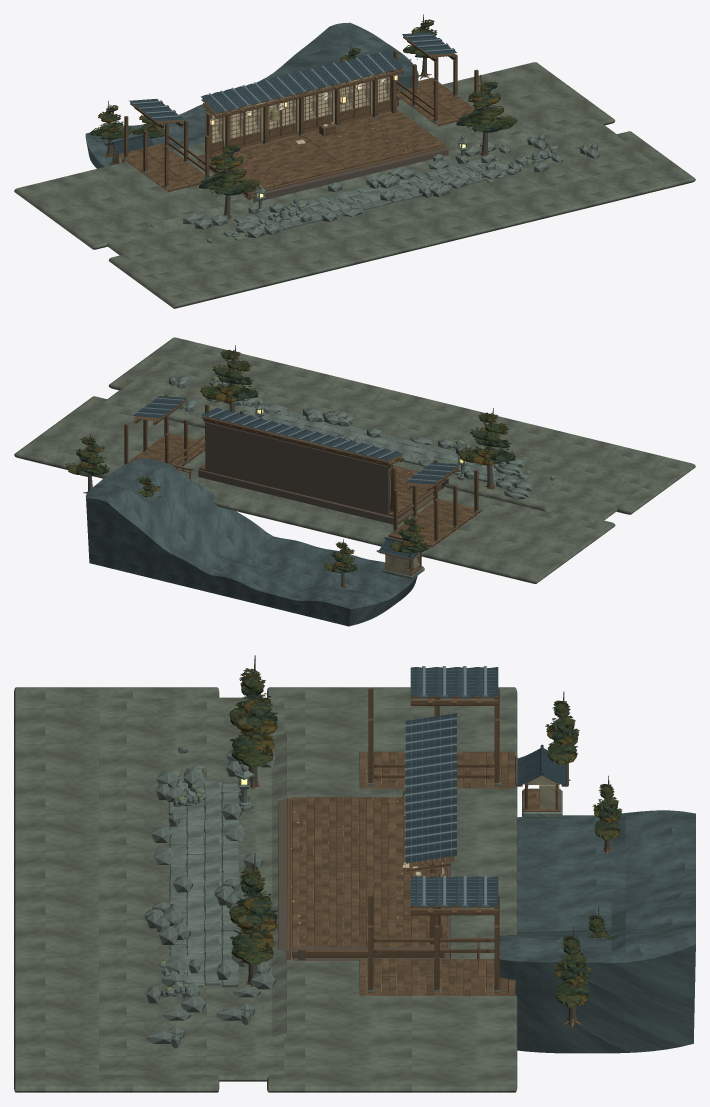
File: night02_corridor_hd2d.glb
The picture shows the model from 3 angles, top to bottom: view 1: azimuth 30°, elevation 25°; view 2: azimuth 150°, elevation 25°; view 3: azimuth 270°, elevation 25°; orthographic projection. The views are drawn at different scales.
Parts seen in each view (by area): view 1: Garden_ground_below_deck, Extended_earth_to_camera_edge, Continuous_sidecourt_foundation, Deck_aged_cedar_planks_nails, Distant_sculpted_ground, Grounded_layered_foreground_stones, Curved_kawara_roof, Damp_forecourt_flagstones_0, Side_aged_cedar_deck, Damp_forecourt_flagstones_1, Near_cedar_frame_right, Near_cedar_frame_left (+19 smaller); view 2: Distant_sculpted_ground, Continuous_sidecourt_foundation, Extended_earth_to_camera_edge, Garden_ground_below_deck, Continuous_dark_sanctuary_backing, Grounded_layered_foreground_stones, Curved_kawara_roof, Deck_understructure_and_worn_fascia, Near_cedar_frame_left, Near_cedar_frame_right, Damp_forecourt_flagstones_0, Side_aged_cedar_deck (+13 smaller); view 3: Continuous_sidecourt_foundation, Garden_ground_below_deck, Distant_sculpted_ground, Extended_earth_to_camera_edge, Deck_aged_cedar_planks_nails, Grounded_layered_foreground_stones, Curved_kawara_roof, Damp_forecourt_flagstones_0, Side_aged_cedar_deck.001, Deck_understructure_and_worn_fascia, Damp_forecourt_flagstones_1, Near_cedar_frame_left (+14 smaller).
Boxes of the visible parts, x1=… form: Garden_ground_below_deck: x1=104, y1=119, x2=652, y2=281; Extended_earth_to_camera_edge: x1=108, y1=131, x2=695, y2=308; Continuous_sidecourt_foundation: x1=14, y1=62, x2=615, y2=249; Deck_aged_cedar_planks_nails: x1=199, y1=109, x2=444, y2=193; Distant_sculpted_ground: x1=85, y1=22, x2=418, y2=168; Grounded_layered_foreground_stones: x1=183, y1=134, x2=599, y2=237; Curved_kawara_roof: x1=201, y1=50, x2=403, y2=113; Damp_forecourt_flagstones_0: x1=234, y1=187, x2=383, y2=233; Side_aged_cedar_deck: x1=118, y1=143, x2=209, y2=191; Damp_forecourt_flagstones_1: x1=365, y1=156, x2=508, y2=205; Near_cedar_frame_right: x1=456, y1=74, x2=517, y2=156; Near_cedar_frame_left: x1=199, y1=137, x2=260, y2=219; Distant_sculpted_ground: x1=86, y1=458, x2=417, y2=626; Continuous_sidecourt_foundation: x1=14, y1=396, x2=615, y2=583; Extended_earth_to_camera_edge: x1=108, y1=337, x2=695, y2=514; Garden_ground_below_deck: x1=104, y1=360, x2=652, y2=522; Continuous_dark_sanctuary_backing: x1=205, y1=422, x2=389, y2=514; Grounded_layered_foreground_stones: x1=169, y1=375, x2=532, y2=498; Curved_kawara_roof: x1=201, y1=408, x2=403, y2=460; Deck_understructure_and_worn_fascia: x1=198, y1=467, x2=445, y2=524; Near_cedar_frame_left: x1=458, y1=408, x2=516, y2=489; Near_cedar_frame_right: x1=200, y1=345, x2=258, y2=412; Damp_forecourt_flagstones_0: x1=372, y1=435, x2=506, y2=482; Side_aged_cedar_deck: x1=388, y1=499, x2=481, y2=547; Continuous_sidecourt_foundation: x1=267, y1=687, x2=517, y2=1092; Garden_ground_below_deck: x1=99, y1=697, x2=284, y2=1081; Distant_sculpted_ground: x1=499, y1=810, x2=695, y2=1053; Extended_earth_to_camera_edge: x1=14, y1=687, x2=219, y2=1092; Deck_aged_cedar_planks_nails: x1=292, y1=797, x2=447, y2=950; Grounded_layered_foreground_stones: x1=144, y1=748, x2=275, y2=1048; Curved_kawara_roof: x1=405, y1=713, x2=456, y2=863; Damp_forecourt_flagstones_0: x1=169, y1=782, x2=239, y2=887; Side_aged_cedar_deck.001: x1=359, y1=959, x2=515, y2=995; Deck_understructure_and_worn_fascia: x1=286, y1=798, x2=450, y2=960; Damp_forecourt_flagstones_1: x1=169, y1=881, x2=238, y2=987; Near_cedar_frame_left: x1=228, y1=655, x2=277, y2=789.
Bounding box in the file's own units: 38 × 8.16 × 27.24.
44 materials, 22 textured.
